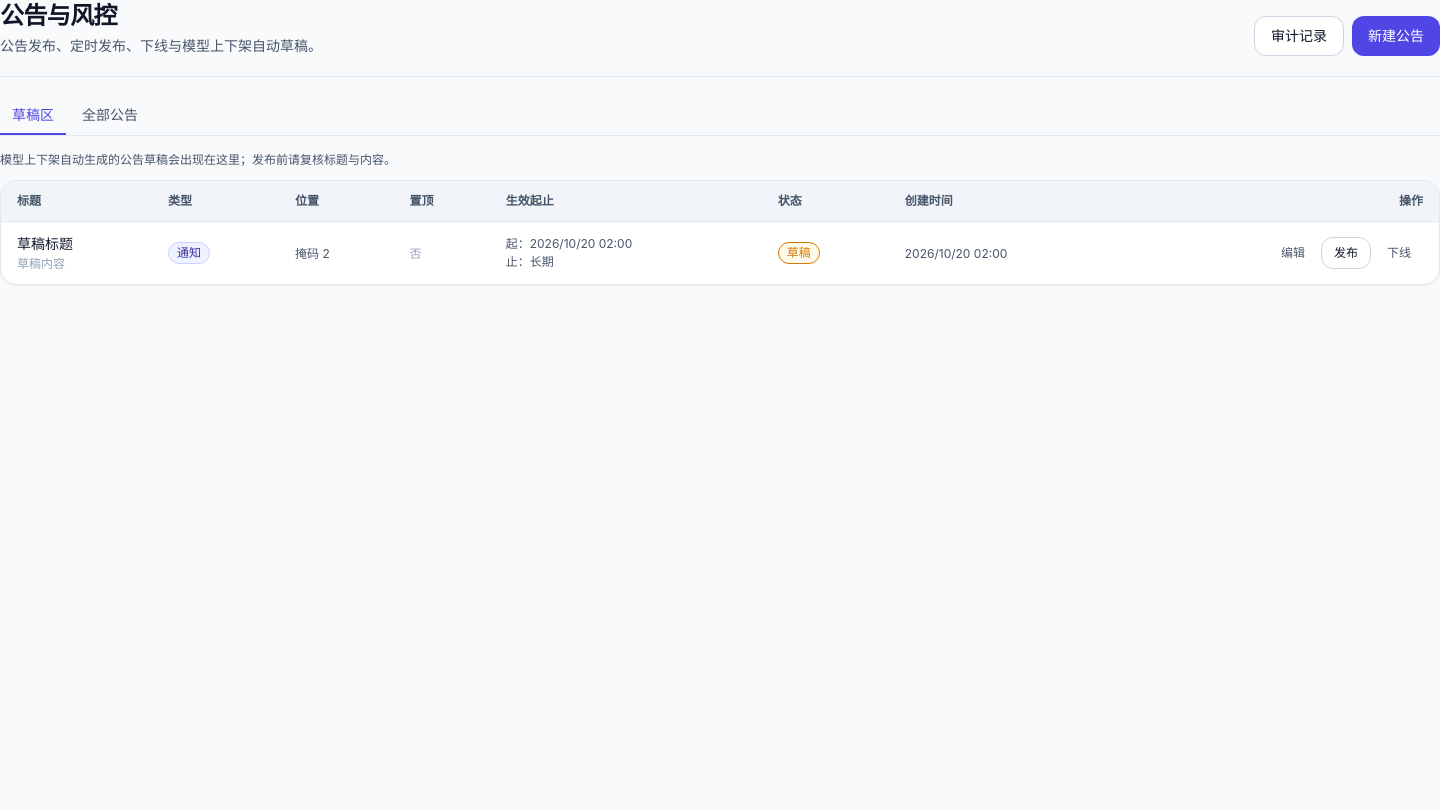
Test: AnnouncementsPage › AnnouncementsPage：下线需要二次确认，已下线置灰
Expected: the text "草稿标题" is shown, [17,235,73,252]
Step 1. Click the tab "全部公告" → {"x": 110, "y": 116}, box [70,97,150,135]
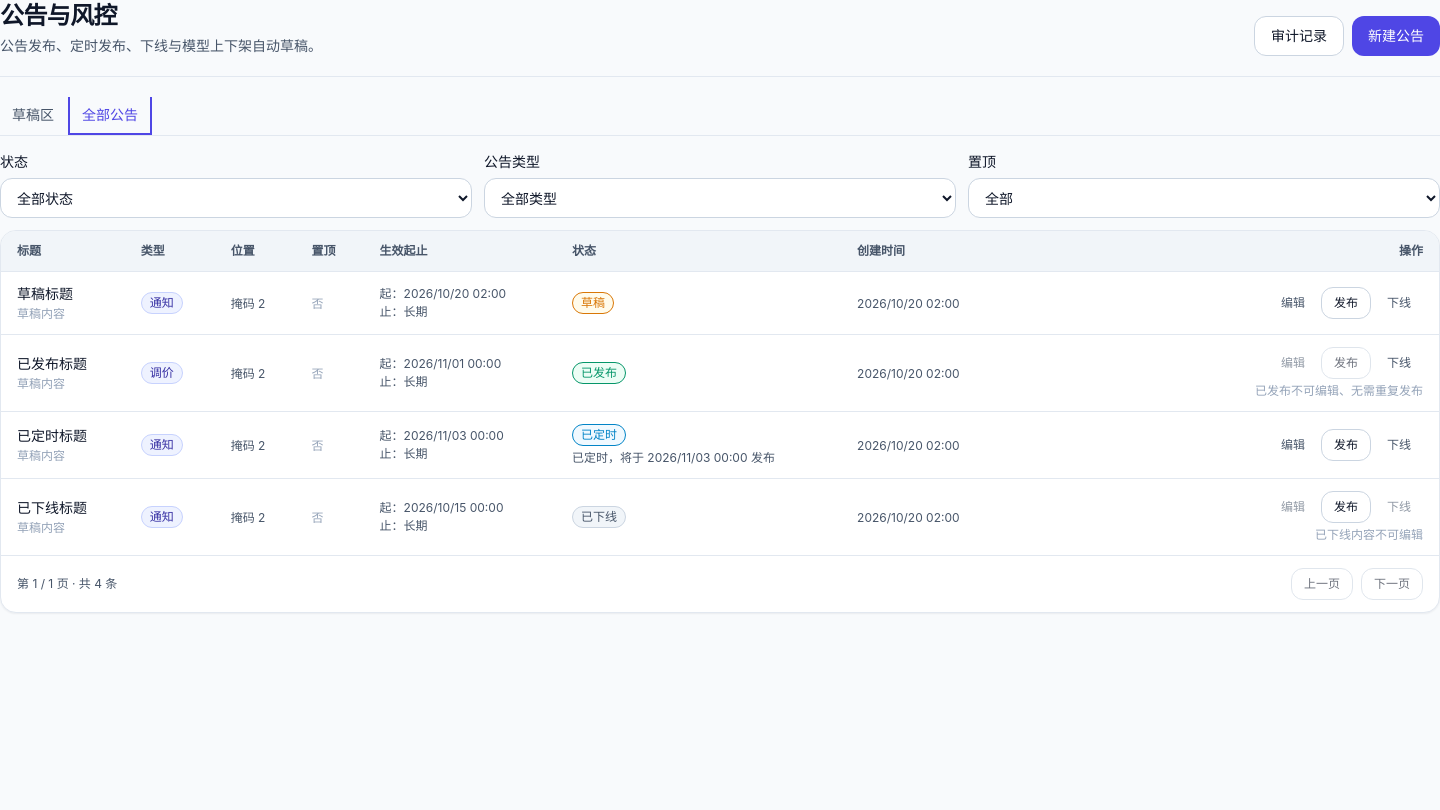
Now the text "已下线标题" is shown, box [17,499,87,516]
Now the button "下线" in the row of "已下线标题" is disabled, box [1375,491,1423,523]
Now the text "已定时标题" is shown, box [17,427,87,444]
Step 2. Click the button "下线" in the row of "已定时标题" → {"x": 1399, "y": 445}, box [1375,429,1423,461]
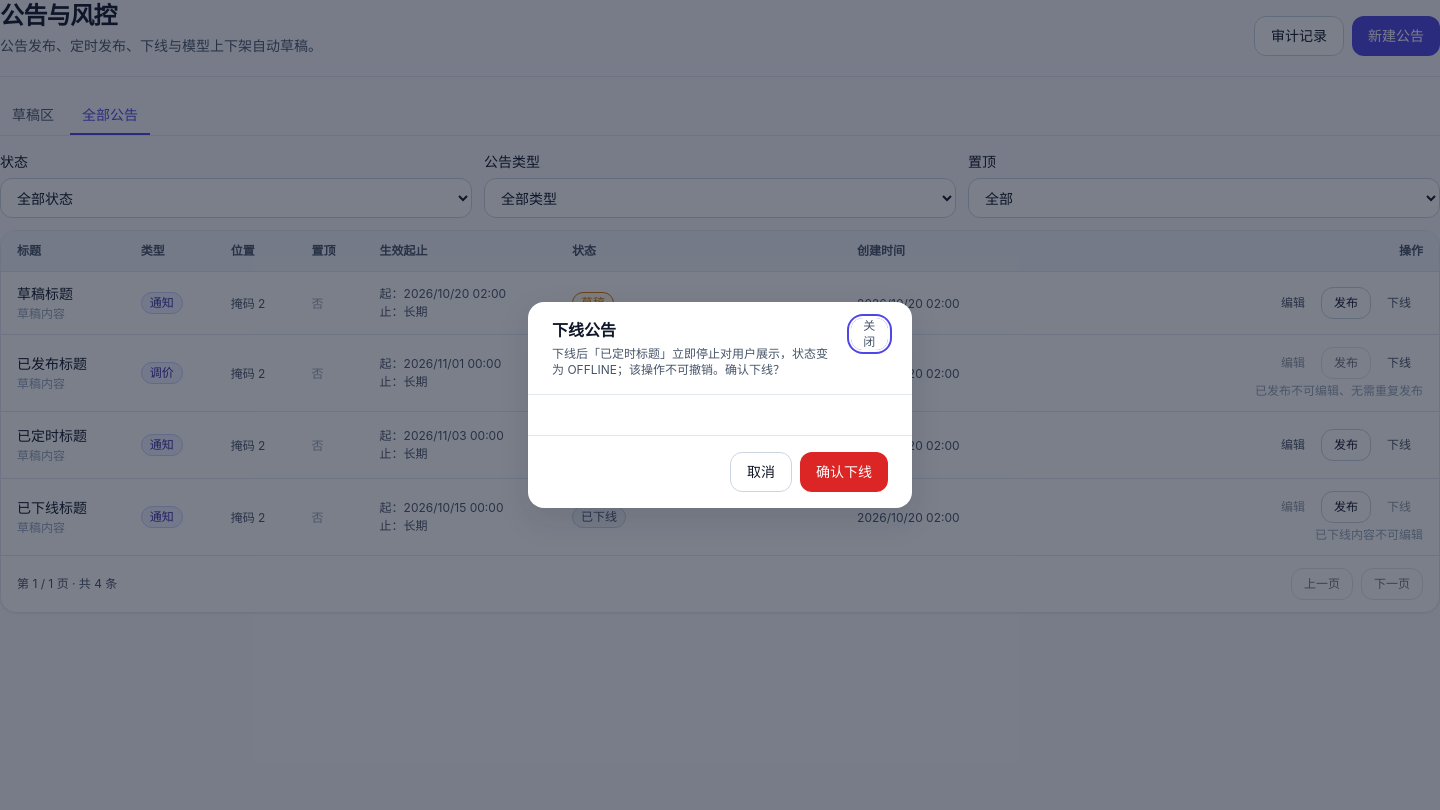
Now the heading "下线公告" is shown, box [552,320,616,340]
Step 3. Click the button "确认下线" → {"x": 844, "y": 472}, box [800,452,888,492]
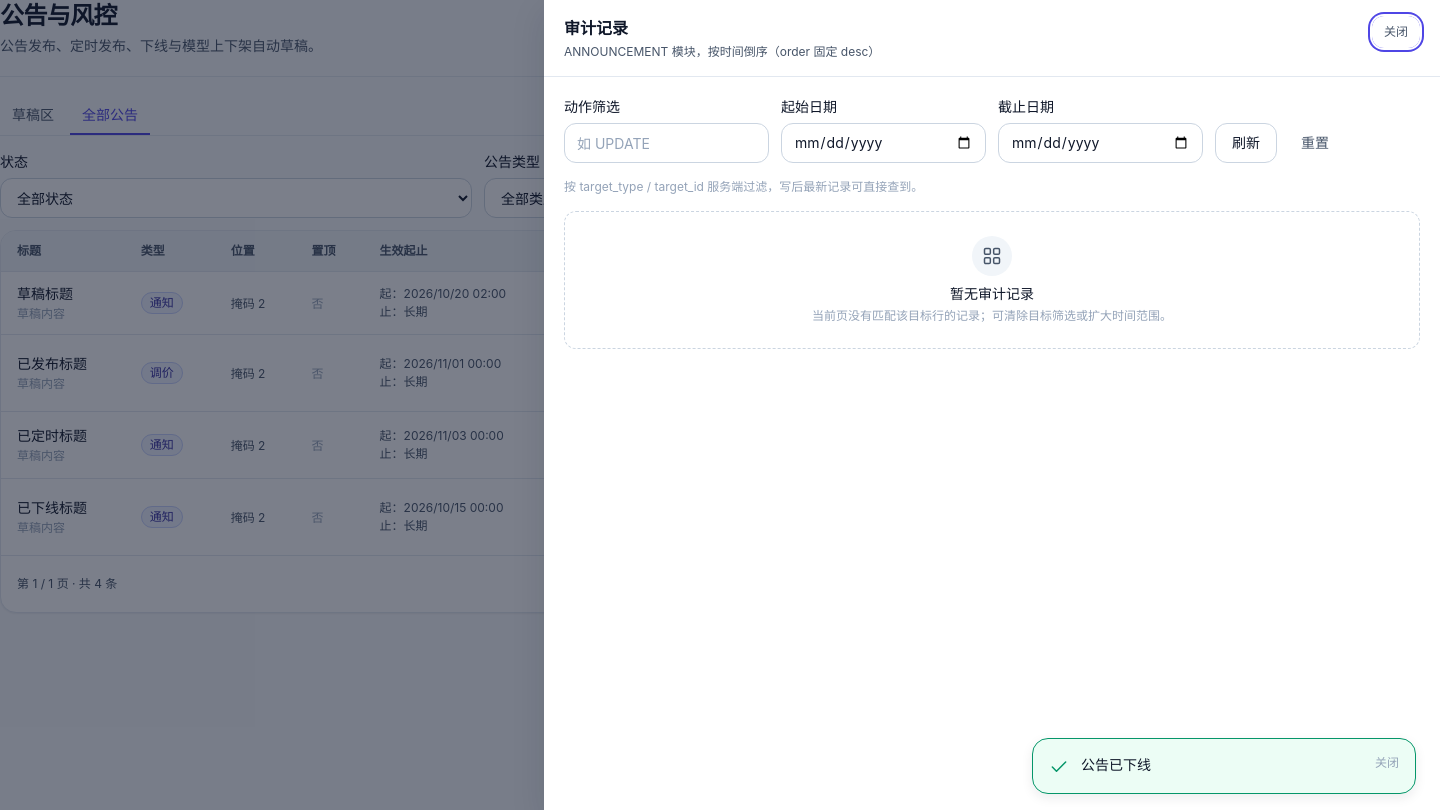
Now the text "公告已下线" is shown, box [1081,756,1151,773]
